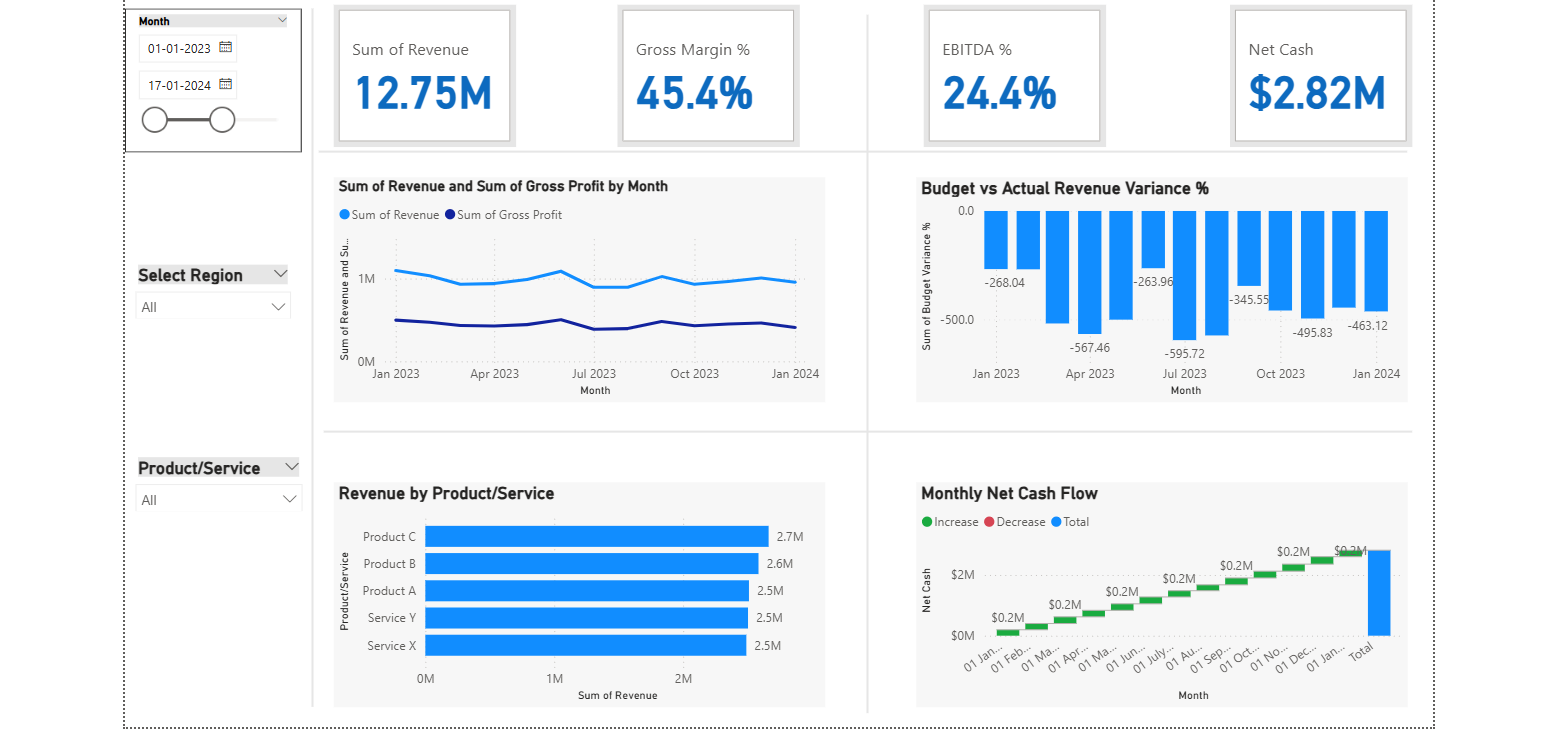

The page's visual inventory and layout, read from the dashboard file:
{"tool":"powerbi","page":{"name":"Page 1","canvas":[1280,720],"ordinal":0},"visuals":[{"type":"cardVisual","fields":{"Data":["Data Analyst -Case Study Data xlsx - Data.Net Cash"]},"box":[1081,13.5,178.5,139.4],"z":0},{"type":"cardVisual","fields":{"Data":["Sum(Data Analyst -Case Study Data xlsx - Data.Revenue)"]},"box":[204.2,13.5,178.5,139.4],"z":1000},{"type":"cardVisual","fields":{"Data":["Data Analyst -Case Study Data xlsx - Data.Gross Margin %"]},"box":[481.8,13.5,178.5,139.4],"z":2000},{"type":"cardVisual","fields":{"Data":["Data Analyst -Case Study Data xlsx - Data.EBITDA %"]},"box":[781.4,13.5,178.5,139.4],"z":3000},{"type":"lineChart","fields":{"Y":["Sum(Data Analyst -Case Study Data xlsx - Data.Revenue)","Sum(Data Analyst -Case Study Data xlsx - Data.Gross Profit)"],"Category":["Data Analyst -Case Study Data xlsx - Data.Month"]},"box":[204.2,182.2,480.6,220.1],"z":4000},{"type":"slicer","fields":{"Values":["Data Analyst -Case Study Data xlsx - Data.Month"]},"box":[0,17.1,172.4,140.6],"z":5000},{"type":"slicer","fields":{"Values":["Data Analyst -Case Study Data xlsx - Data.Region"]},"box":[0,262.9,172.4,57.5],"z":6000},{"type":"slicer","fields":{"Values":["Data Analyst -Case Study Data xlsx - Data.Product/Service"]},"box":[0,451.2,183.4,57.5],"z":7000},{"type":"clusteredColumnChart","title":"Budget vs Actual Revenue Variance %","fields":{"Category":["Data Analyst -Case Study Data xlsx - Data.Month"],"Y":["Sum(Data Analyst -Case Study Data xlsx - Data.Budget Variance %)"]},"box":[774.1,182.2,480.6,220.1],"z":8000},{"type":"clusteredBarChart","title":"Revenue by Product/Service","fields":{"Category":["Data Analyst -Case Study Data xlsx - Data.Product/Service"],"Y":["Sum(Data Analyst -Case Study Data xlsx - Data.Revenue)"]},"box":[204.2,480.6,480.6,220.1],"z":9000},{"type":"waterfallChart","title":"Monthly Net Cash Flow","fields":{"Y":["Data Analyst -Case Study Data xlsx - Data.Net Cash"],"Category":["Data Analyst -Case Study Data xlsx - Data.Month"]},"box":[774.1,480.6,480.6,220.1],"z":10000},{"type":"shape","box":[720.2,23.2,12.2,683.6],"z":11000},{"type":"shape","box":[177.3,17.1,12.2,683.6],"z":12000},{"type":"shape","box":[194.4,419.4,1065.1,23.2],"z":13000},{"type":"shape","box":[189.5,145.5,1065.1,23.2],"z":14000}]}

Visuals, with their boxes on the page's 1280x720 design canvas (x1, y1, x2, y2). These are canvas units, not pixel positions in the 1554x731 screenshot, which may show the page scaled, cropped or inside an application window:
cardVisual - Data Analyst -Case Study Data xlsx - Data.Net Cash: Rect(1081, 14, 1260, 153)
cardVisual - Sum(Data Analyst -Case Study Data xlsx - Data.Revenue): Rect(204, 14, 383, 153)
cardVisual - Data Analyst -Case Study Data xlsx - Data.Gross Margin %: Rect(482, 14, 660, 153)
cardVisual - Data Analyst -Case Study Data xlsx - Data.EBITDA %: Rect(781, 14, 960, 153)
lineChart - Sum(Data Analyst -Case Study Data xlsx - Data.Revenue) x Sum(Data Analyst -Case Study Data xlsx - Data.Gross Profit): Rect(204, 182, 685, 402)
slicer - Data Analyst -Case Study Data xlsx - Data.Month: Rect(0, 17, 172, 158)
slicer - Data Analyst -Case Study Data xlsx - Data.Region: Rect(0, 263, 172, 320)
slicer - Data Analyst -Case Study Data xlsx - Data.Product/Service: Rect(0, 451, 183, 509)
"Budget vs Actual Revenue Variance %" clusteredColumnChart: Rect(774, 182, 1255, 402)
"Revenue by Product/Service" clusteredBarChart: Rect(204, 481, 685, 701)
"Monthly Net Cash Flow" waterfallChart: Rect(774, 481, 1255, 701)
shape: Rect(720, 23, 732, 707)
shape: Rect(177, 17, 190, 701)
shape: Rect(194, 419, 1260, 443)
shape: Rect(190, 146, 1255, 169)
